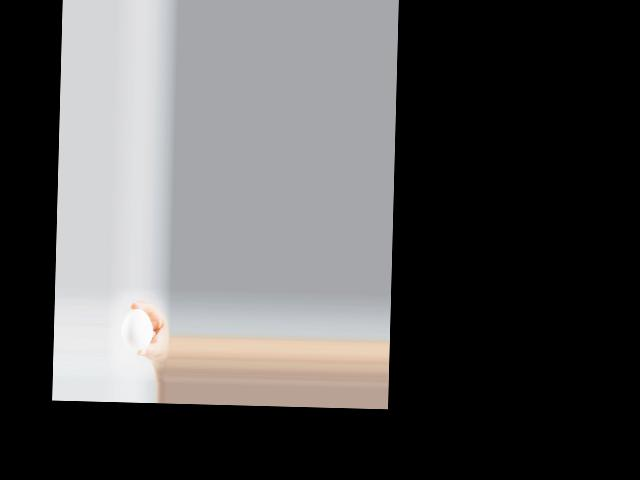egg: (121, 307, 152, 350)
